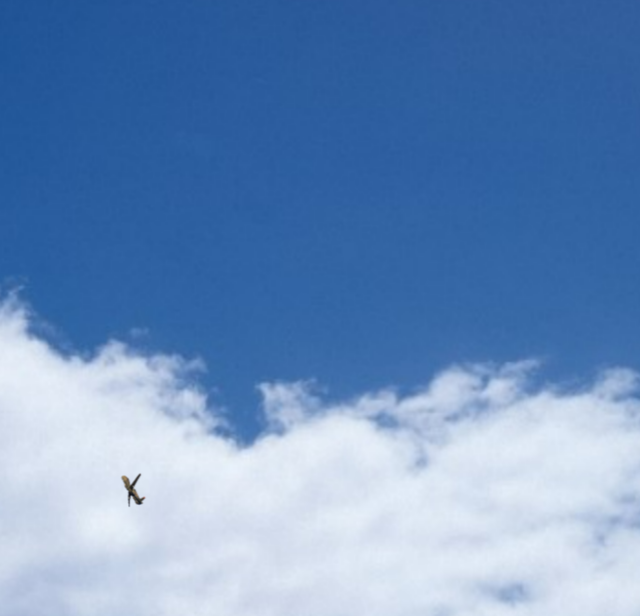military drone: (121, 473, 145, 507)
